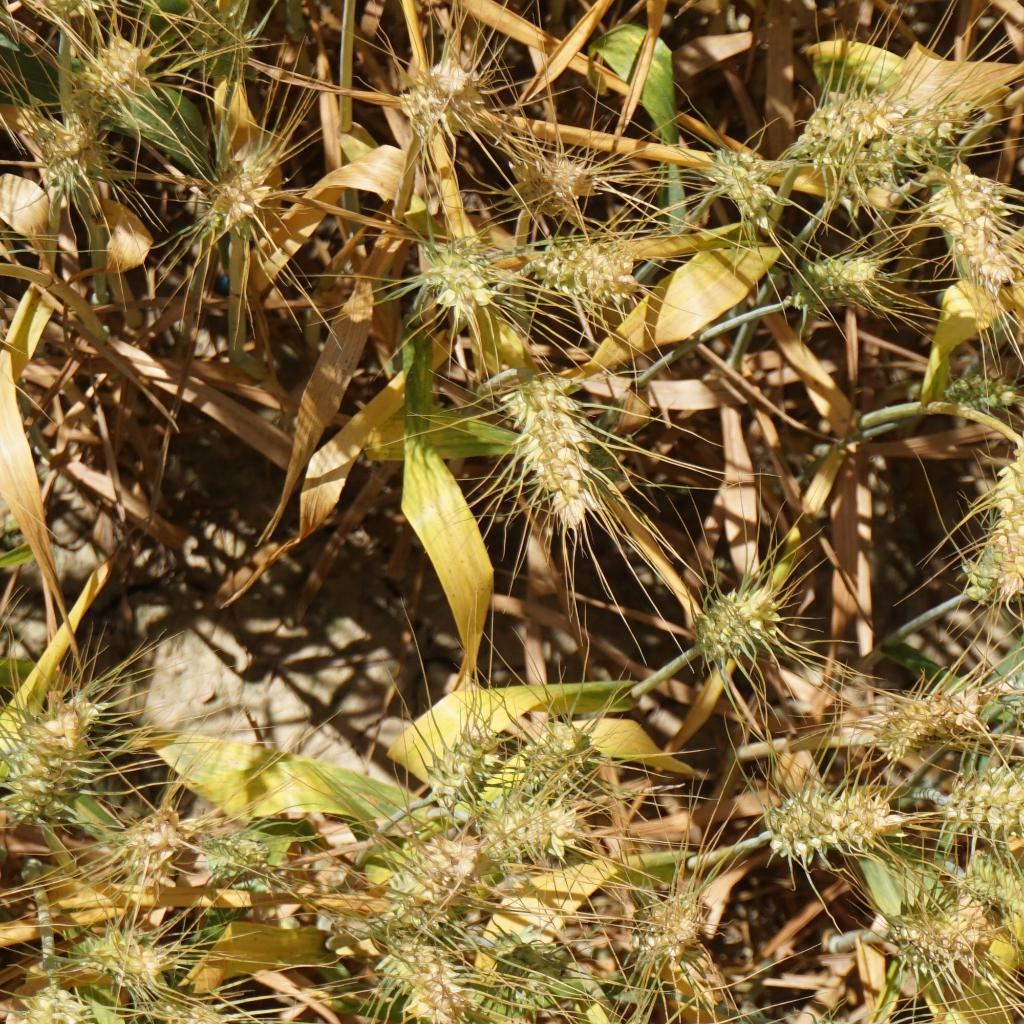0-0: (512, 363, 614, 546), (747, 777, 918, 858), (66, 22, 171, 147), (932, 154, 1022, 297), (474, 922, 590, 1024), (962, 425, 1024, 610), (504, 713, 630, 804), (881, 899, 1000, 994), (4, 710, 90, 834), (475, 802, 600, 887), (9, 98, 104, 203), (379, 924, 474, 1024), (65, 918, 172, 1005), (626, 891, 729, 978), (420, 226, 499, 339), (689, 574, 779, 672), (95, 803, 186, 898), (197, 133, 278, 239), (872, 681, 988, 755), (395, 49, 493, 135), (800, 228, 877, 325), (544, 235, 636, 314), (388, 837, 483, 910), (424, 697, 489, 798), (947, 758, 1024, 837), (704, 147, 781, 224), (926, 367, 1024, 422), (958, 856, 1024, 934), (0, 975, 105, 1024), (529, 150, 612, 209), (197, 820, 273, 882), (162, 989, 290, 1024), (774, 994, 923, 1024), (191, 0, 245, 78), (804, 98, 885, 147), (51, 676, 120, 730)
